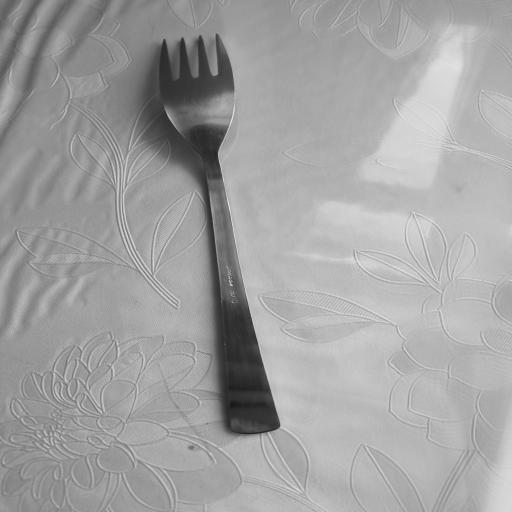fork: (149, 28, 284, 436)
